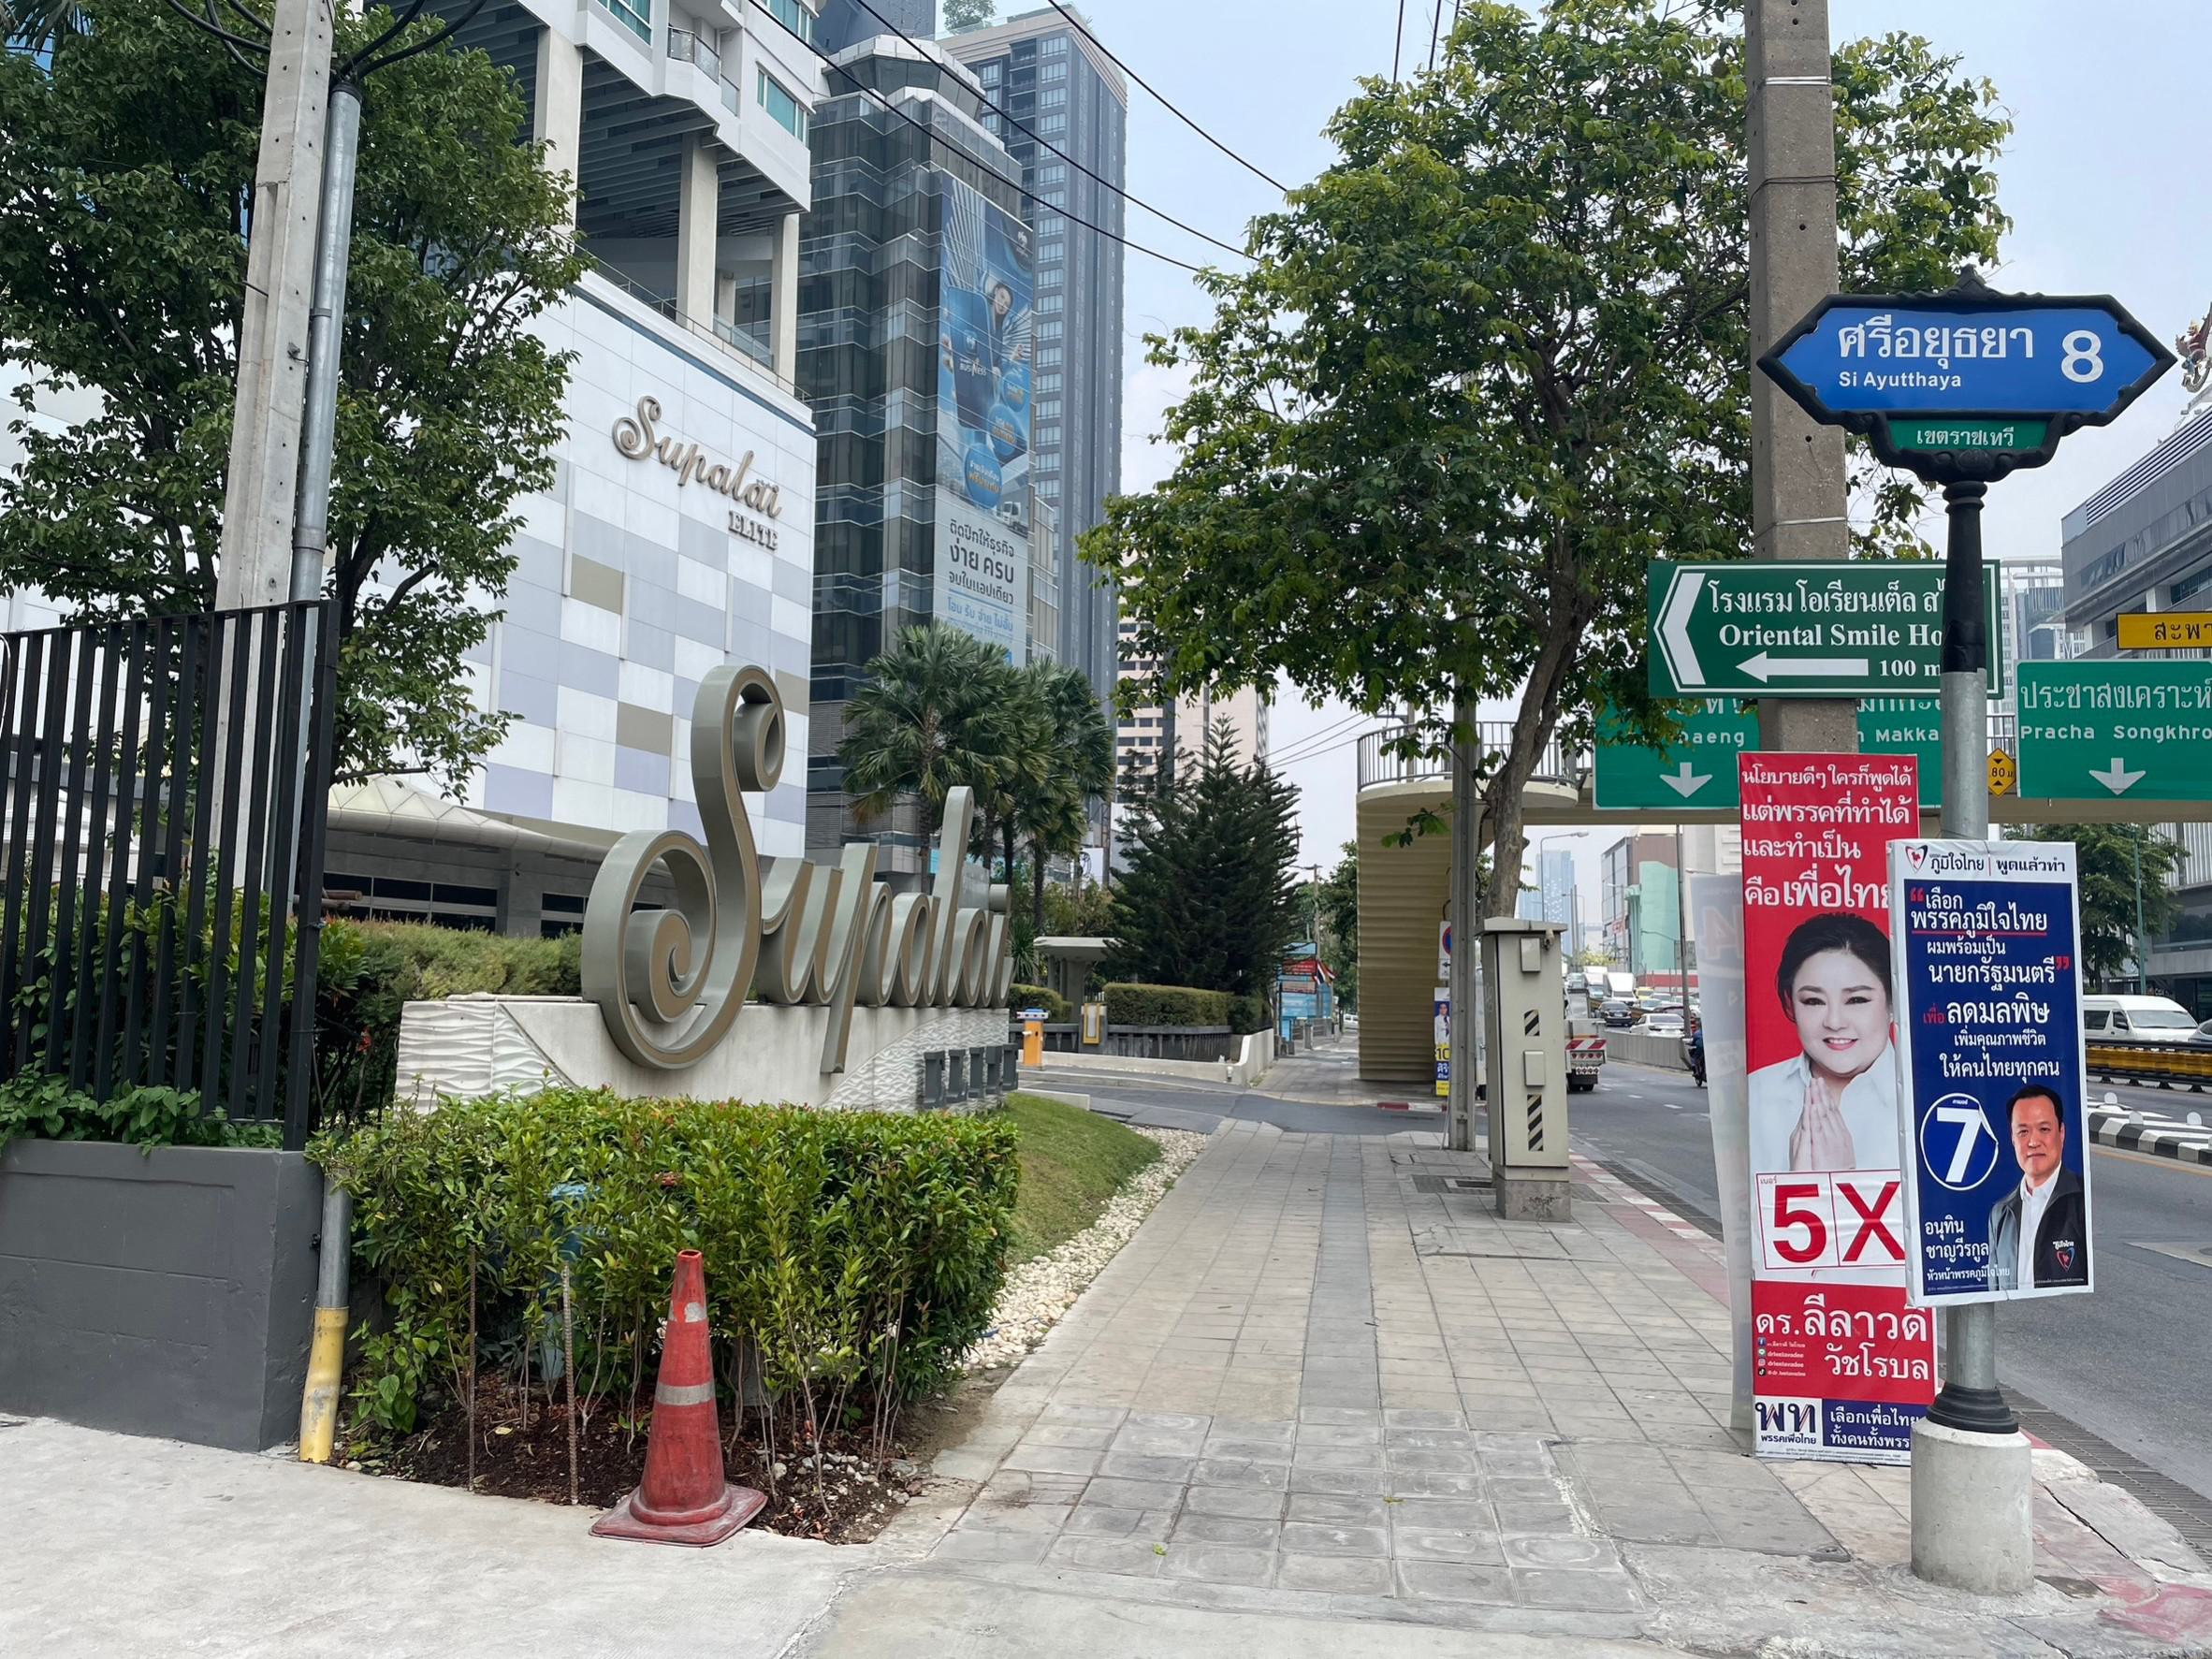Banner: (1740, 751, 1937, 1460), (1893, 845, 2090, 1303)
